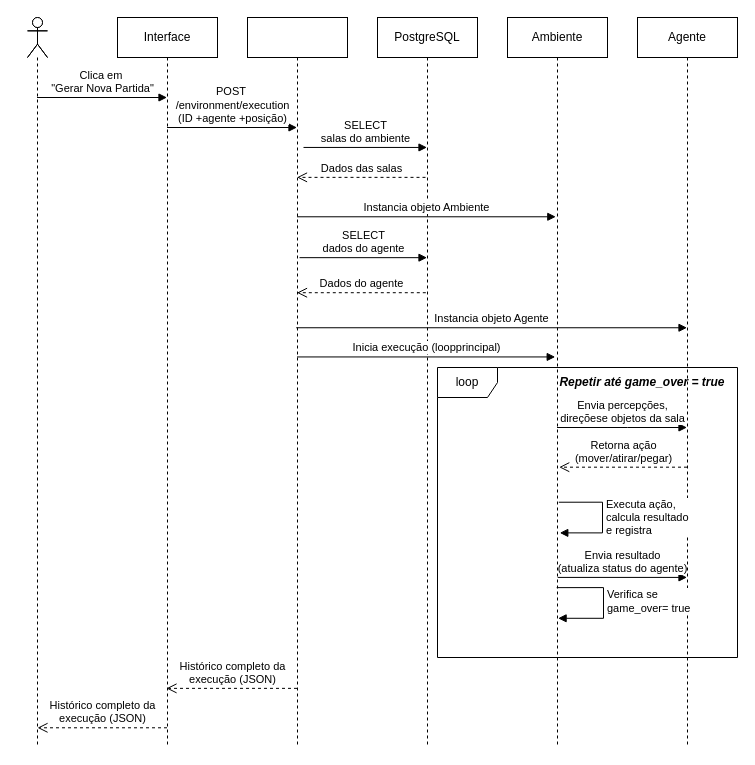
Image size: 755x765. Some labels were removed from this diagram. The shapes that lost their labels are listed below. From the top down, each one's box as (x1, y1, x2, y2) in pixels, then its label:
(26, 16, 48, 58): Usuário
(246, 16, 348, 748): API
